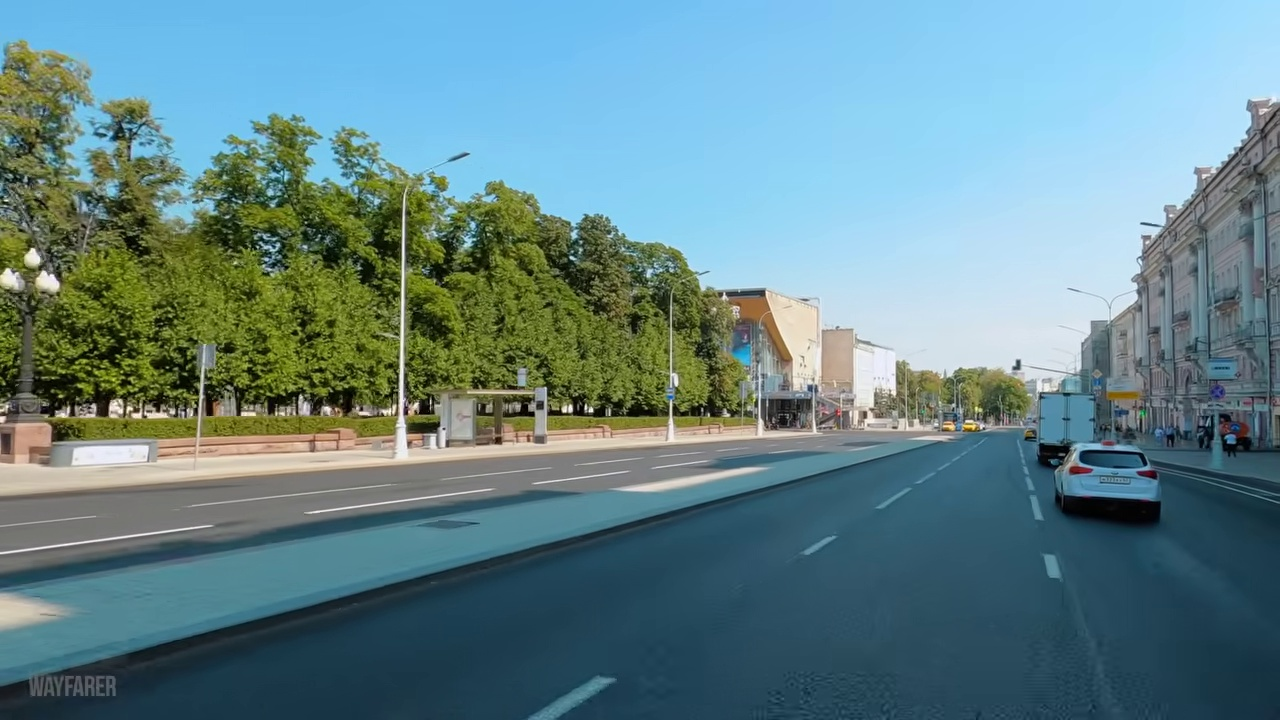apagada: (446, 145, 469, 166)
